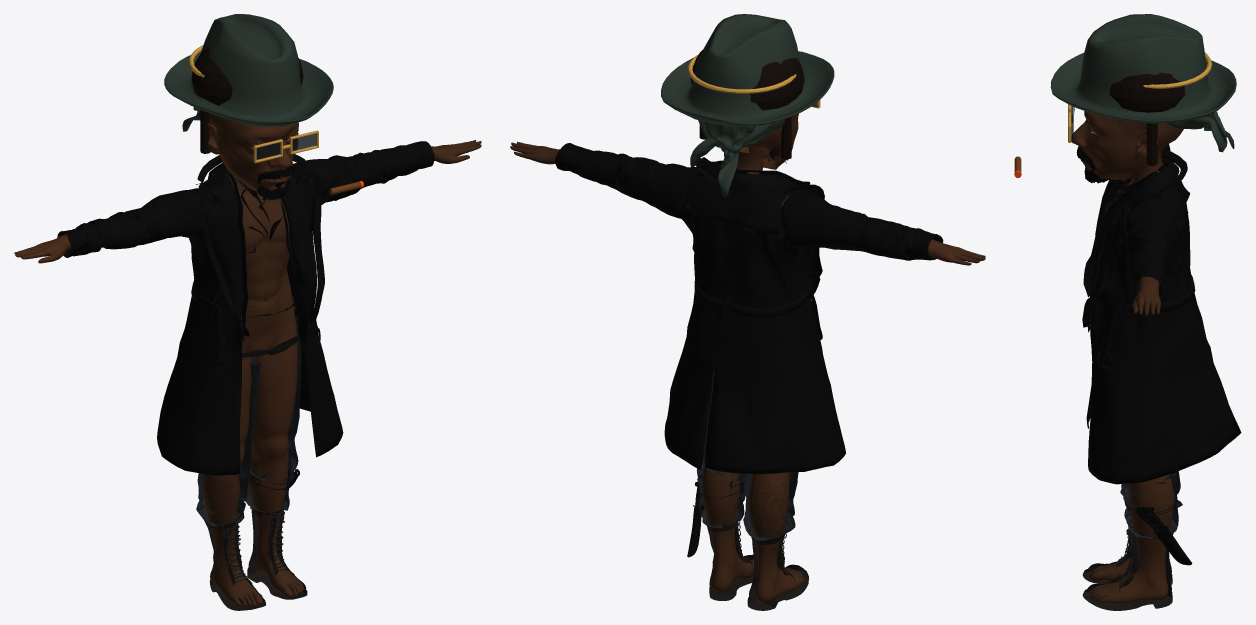
The model's file is Smoke-bust.glb.
The picture shows the model from 3 angles, left to right: view 1: azimuth 30°, elevation 25°; view 2: azimuth 150°, elevation 25°; view 3: azimuth 270°, elevation 25°; orthographic projection.
Visible parts, largest first — view 1: Smoke jacket, Smoke body, Smoke hat, Smoke head, Smoke shoes, Smoke pants, Smoke jacket trim, Smoke hair, Smoke shirt, Smoke jacket belt, Smoke beard; view 2: Smoke jacket, Smoke hat, Smoke body, Smoke hat bandana, Smoke shoes, Smoke hair, Smoke pants, Smoke head, Smoke jacket trim, Smoke hat gold band, Smoke accessory; view 3: Smoke jacket, Smoke hat, Smoke body, Smoke head, Smoke hair, Smoke shoes, Smoke jacket trim, Smoke accessory, Smoke hat bandana, Smoke jacket belt, Smoke pants, Smoke braid.003 (+3 smaller).
Boxes of the visible parts, left/top/right/bottom form: Smoke jacket: left=57, top=141, right=434, bottom=475; Smoke body: left=14, top=140, right=481, bottom=606; Smoke hat: left=164, top=14, right=333, bottom=126; Smoke head: left=208, top=113, right=298, bottom=190; Smoke shoes: left=204, top=500, right=307, bottom=610; Smoke pants: left=196, top=294, right=301, bottom=527; Smoke jacket trim: left=196, top=154, right=324, bottom=341; Smoke hair: left=191, top=48, right=303, bottom=105; Smoke shirt: left=238, top=180, right=299, bottom=357; Smoke jacket belt: left=197, top=160, right=318, bottom=332; Smoke beard: left=256, top=165, right=294, bottom=200; Smoke jacket: left=555, top=143, right=943, bottom=473; Smoke hat: left=661, top=14, right=834, bottom=126; Smoke body: left=510, top=141, right=985, bottom=602; Smoke hat bandana: left=690, top=119, right=785, bottom=196; Smoke shoes: left=706, top=510, right=808, bottom=610; Smoke hair: left=690, top=50, right=804, bottom=110; Smoke pants: left=696, top=427, right=798, bottom=540; Smoke head: left=720, top=113, right=798, bottom=169; Smoke jacket trim: left=695, top=157, right=824, bottom=299; Smoke hat gold band: left=688, top=55, right=796, bottom=93; Smoke accessory: left=687, top=479, right=744, bottom=557; Smoke jacket: left=1086, top=144, right=1241, bottom=484; Smoke hat: left=1050, top=14, right=1236, bottom=123; Smoke body: left=1090, top=149, right=1174, bottom=603; Smoke head: left=1071, top=111, right=1183, bottom=179; Smoke hair: left=1109, top=72, right=1185, bottom=112; Smoke shoes: left=1082, top=525, right=1173, bottom=610; Smoke jacket trim: left=1082, top=150, right=1187, bottom=332; Smoke accessory: left=1124, top=493, right=1191, bottom=565; Smoke hat bandana: left=1167, top=111, right=1234, bottom=152; Smoke jacket belt: left=1089, top=156, right=1180, bottom=325; Smoke pants: left=1120, top=471, right=1182, bottom=538; Smoke braid.003: left=1146, top=123, right=1157, bottom=165.
Size of the model in its own units: 1.88 by 2.17 by 0.7825.
15 materials, 4 textured.
